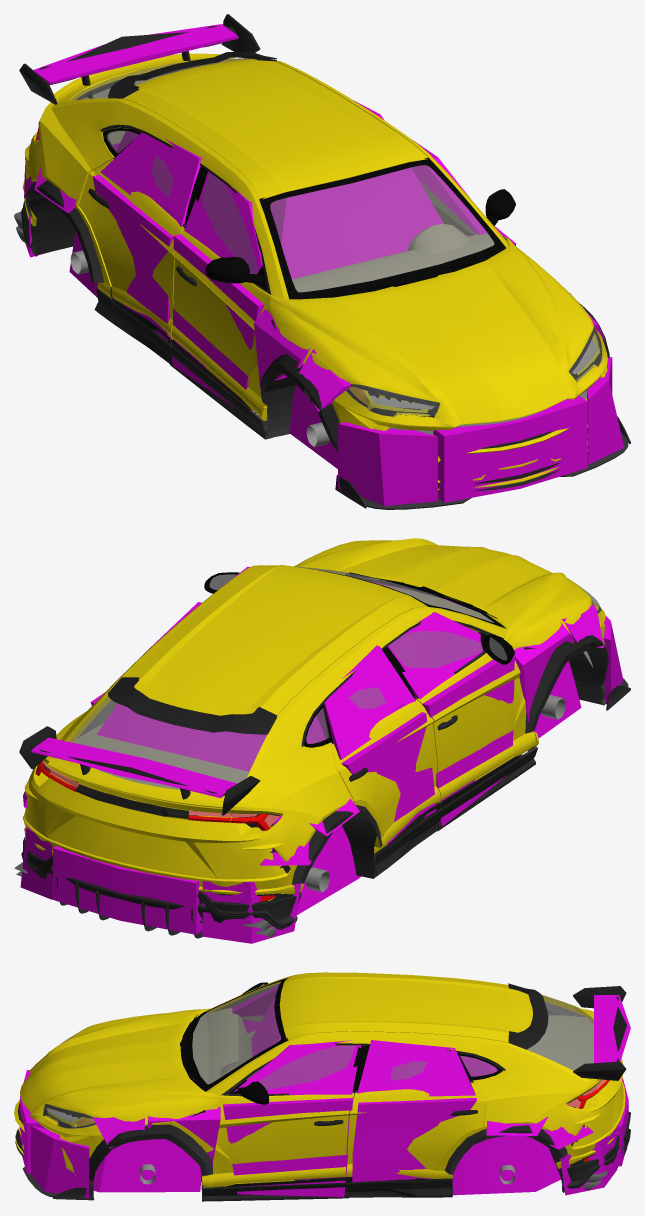
The model's file is Lamborgini_Urus.fbx.
3 views of the same model, one above another, from view 1: azimuth 30°, elevation 25°; view 2: azimuth 150°, elevation 25°; view 3: azimuth 270°, elevation 25° (orthographic). The views are drawn at different scales.
Parts seen in each view (by area): view 1: Lamborgini_base2, polySurface924, pasted__pasted__pasted__BodyCol1, pasted__pasted__BumperRCol2, polySurface934, pasted__pasted__BumperRCol1, polySurface1049, polySurface1095, polySurface1070, polySurface1072, polySurface1085, pasted__SpoilerCol (+12 smaller); view 2: Lamborgini_base2, polySurface925, polySurface934, pasted__pasted__pasted__BodyCol1, pasted__BumperRCol2, polySurface1081, polySurface1070, polySurface1095, polySurface1085, polySurface1072, polySurface1100, pasted__SpoilerCol (+15 smaller); view 3: Lamborgini_base2, polySurface933, pasted__pasted__pasted__BodyCol1, polySurface1071, polySurface924, polySurface1069, polySurface1099, pasted__pasted__pasted__BodyCol2, polySurface1078, polySurface1084, pasted__pasted__BumperRCol3, polySurface925 (+18 smaller).
Part boxes in pixels (<box>): Lamborgini_base2: <box>24,52,609,453</box>; polySurface924: <box>270,165,494,292</box>; pasted__pasted__pasted__BodyCol1: <box>69,131,443,306</box>; pasted__pasted__BumperRCol2: <box>433,395,587,502</box>; polySurface934: <box>171,225,271,413</box>; pasted__pasted__BumperRCol1: <box>338,422,437,505</box>; polySurface1049: <box>333,330,630,509</box>; polySurface1095: <box>78,158,207,337</box>; polySurface1070: <box>100,132,202,226</box>; polySurface1072: <box>92,174,173,341</box>; polySurface1085: <box>184,171,262,274</box>; pasted__SpoilerCol: <box>33,24,238,84</box>; Lamborgini_base2: <box>24,538,608,892</box>; polySurface925: <box>69,683,266,789</box>; polySurface934: <box>414,632,528,800</box>; pasted__pasted__pasted__BodyCol1: <box>96,703,397,914</box>; pasted__BumperRCol2: <box>53,846,202,934</box>; polySurface1081: <box>14,813,303,938</box>; polySurface1070: <box>317,645,415,759</box>; polySurface1095: <box>332,646,440,842</box>; polySurface1085: <box>387,612,482,699</box>; polySurface1072: <box>341,712,436,838</box>; polySurface1100: <box>421,651,514,826</box>; pasted__SpoilerCol: <box>31,737,236,797</box>; Lamborgini_base2: <box>25,972,623,1201</box>; polySurface933: <box>214,1079,354,1186</box>; pasted__pasted__pasted__BodyCol1: <box>251,997,560,1195</box>; polySurface1071: <box>352,1098,476,1182</box>; polySurface924: <box>192,981,280,1084</box>; polySurface1069: <box>357,1040,475,1096</box>; polySurface1099: <box>223,1098,352,1197</box>; pasted__pasted__pasted__BodyCol2: <box>93,1139,201,1192</box>; polySurface1078: <box>346,1045,486,1178</box>; polySurface1084: <box>233,1040,361,1095</box>; pasted__pasted__BumperRCol3: <box>31,1126,89,1198</box>; polySurface925: <box>510,988,593,1070</box>.
Size of the model in its own units: 224 by 142 by 517.
